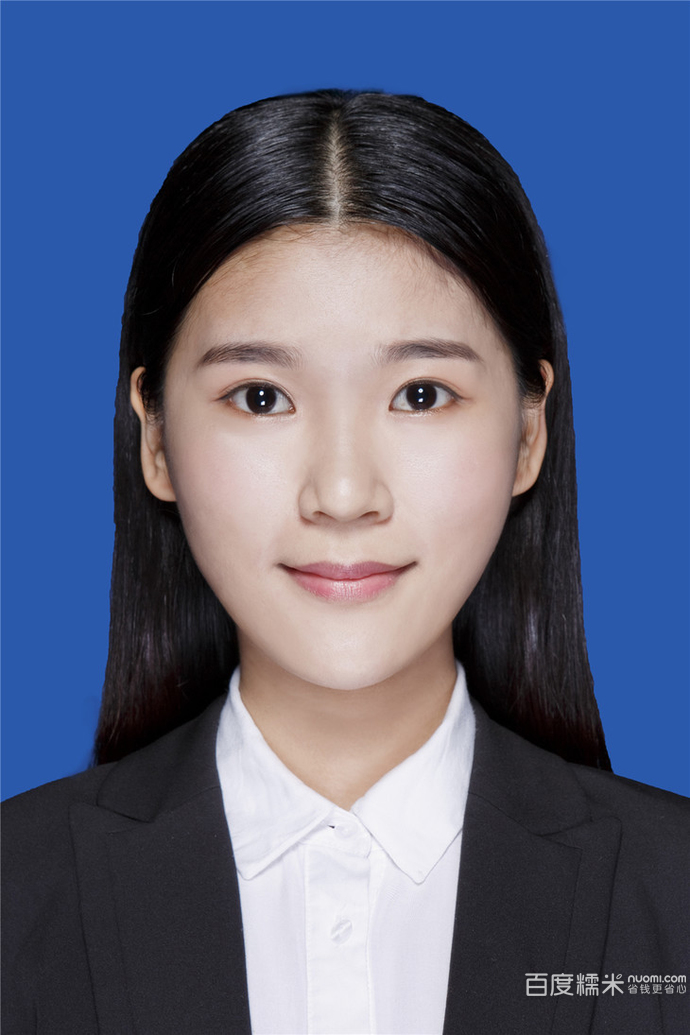unmask: (187, 261, 519, 689)
